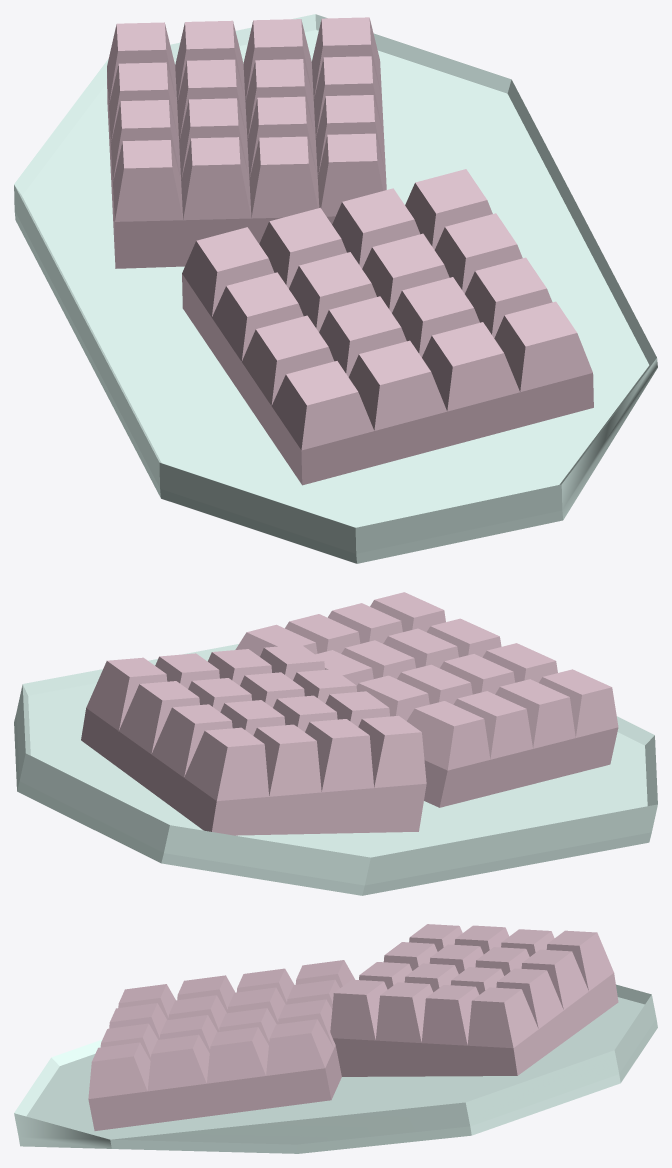
Rendered from Mattak.glb.
The picture shows the model from 3 angles, top to bottom: view 1: azimuth 30°, elevation 25°; view 2: azimuth 150°, elevation 25°; view 3: azimuth 270°, elevation 25°; orthographic projection. The views are drawn at different scales.
Visible parts, largest first — view 1: Mattak; view 2: Mattak; view 3: Mattak.
Part boxes in pixels (x1,y1,x2,y2): Mattak: [14, 14, 657, 563]; Mattak: [14, 592, 657, 895]; Mattak: [14, 924, 657, 1153].
Size of the model in its own units: 0.9817 by 0.4631 by 1.34.
